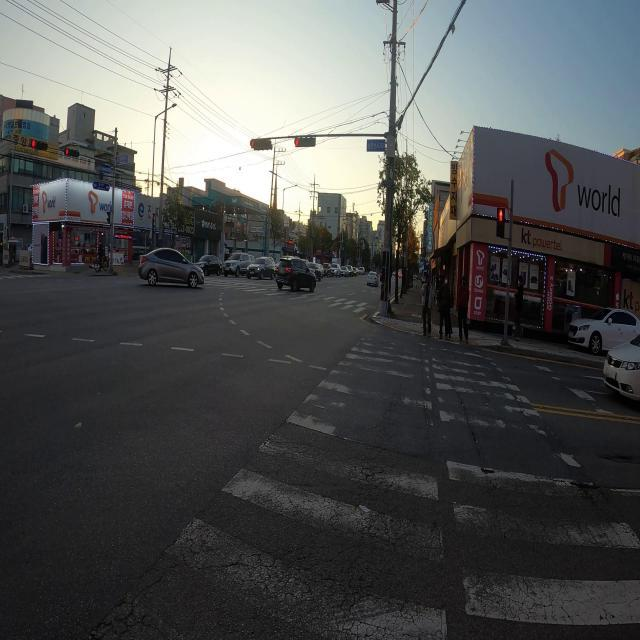crosswalk: (78, 326, 640, 640), (194, 276, 377, 316)
